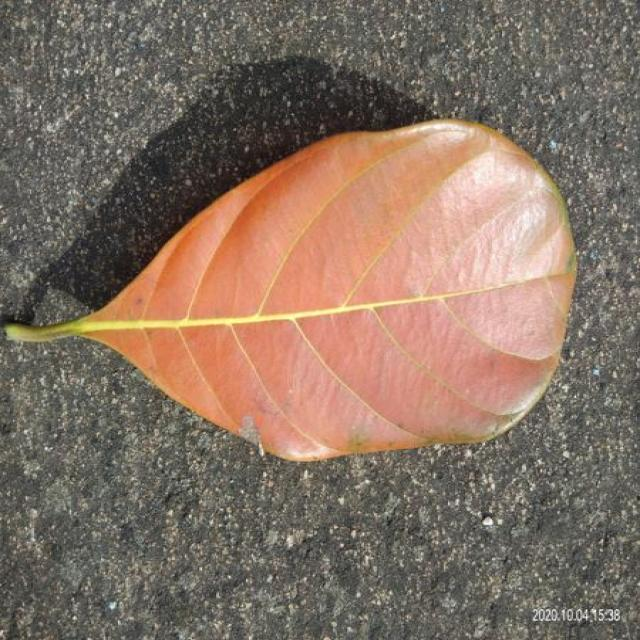Jackfruit: (5, 120, 577, 461)
dieback: (7, 120, 577, 460)
